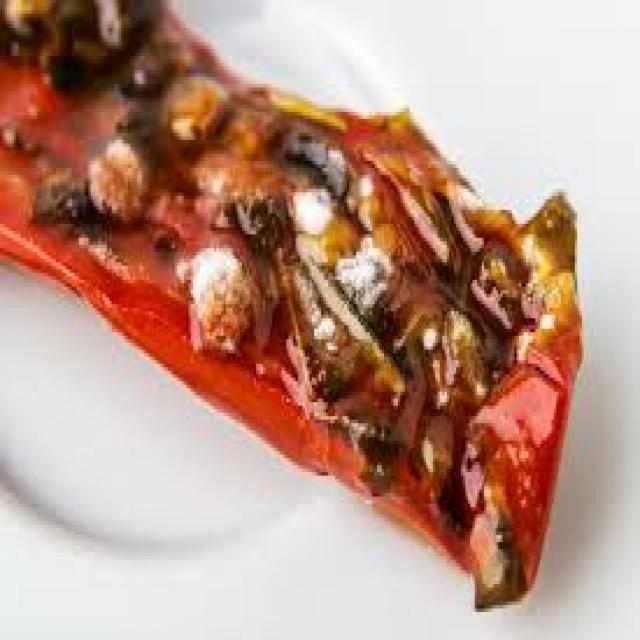organic waste: (0, 0, 577, 605)
